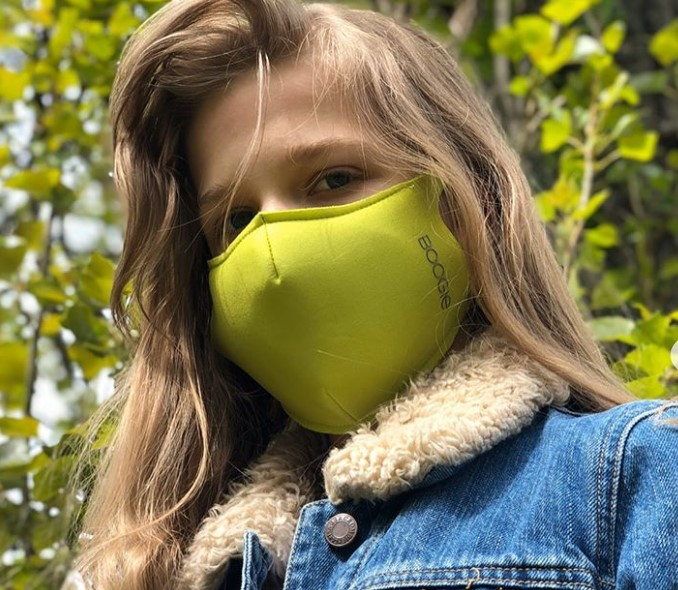face_with_mask: (151, 22, 498, 437)
